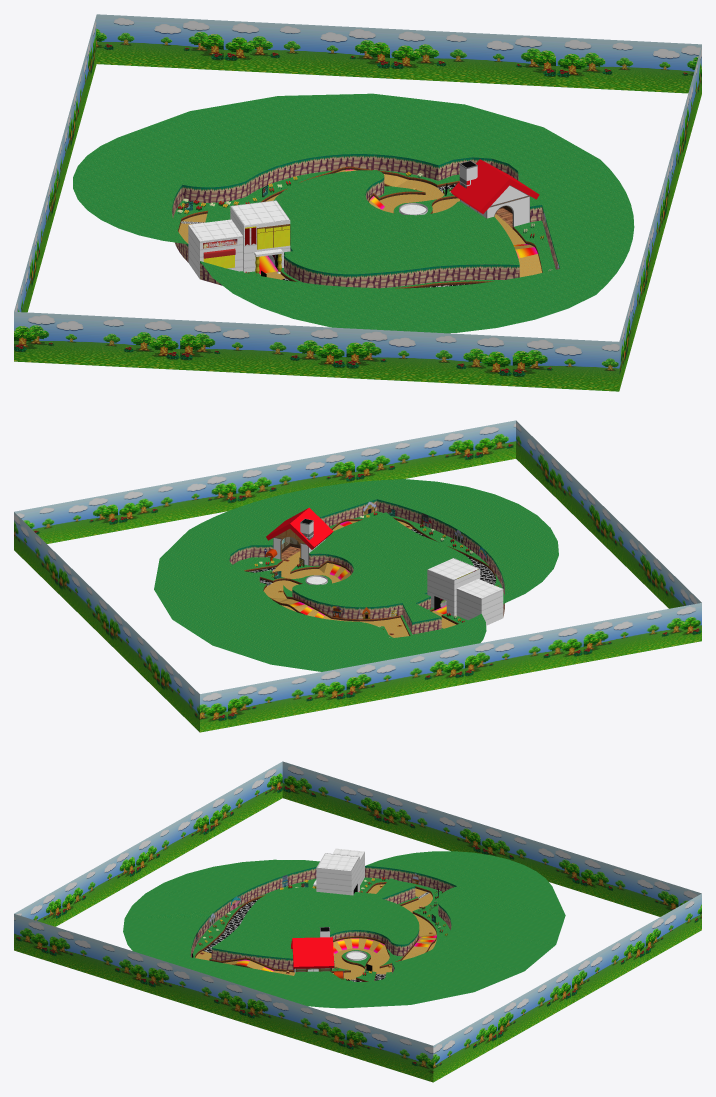
3 renders of one model, top to bottom at view 1: azimuth 30°, elevation 25°; view 2: azimuth 150°, elevation 25°; view 3: azimuth 270°, elevation 25°, orthographic. The views are drawn at different scales.
Parts seen in each view (by area): view 1: Carefree_Crossing-SKP--grass, Carefree_Crossing-SKP--background, Carefree_Crossing-SKP--cliff, Carefree_Crossing-SKP--dirt_path, Carefree_Crossing-SKP--nookington_wall4, Carefree_Crossing-SKP--house_redroof, Carefree_Crossing-SKP--nookington_roof, Carefree_Crossing-SKP--fence, Carefree_Crossing-SKP--house_wall, Carefree_Crossing-SKP--nookington_wall3, Carefree_Crossing-SKP--nookington_marble; view 2: Carefree_Crossing-SKP--background, Carefree_Crossing-SKP--grass, Carefree_Crossing-SKP--cliff, Carefree_Crossing-SKP--nookington_wall4, Carefree_Crossing-SKP--dirt_path, Carefree_Crossing-SKP--fence, Carefree_Crossing-SKP--house_redroof, Carefree_Crossing-SKP--nookington_roof, Carefree_Crossing-SKP--house_wall; view 3: Carefree_Crossing-SKP--background, Carefree_Crossing-SKP--grass, Carefree_Crossing-SKP--cliff, Carefree_Crossing-SKP--dirt_path, Carefree_Crossing-SKP--nookington_wall4, Carefree_Crossing-SKP--house_redroof, Carefree_Crossing-SKP--fence, Carefree_Crossing-SKP--nookington_roof, Carefree_Crossing-SKP--water, Carefree_Crossing-SKP--panel.
Boxes of the visible parts, x1,y1,x2,y2 form: Carefree_Crossing-SKP--grass: (73,93,634,333); Carefree_Crossing-SKP--background: (14,14,701,391); Carefree_Crossing-SKP--cliff: (172,154,557,288); Carefree_Crossing-SKP--dirt_path: (178,169,541,279); Carefree_Crossing-SKP--nookington_wall4: (188,200,290,278); Carefree_Crossing-SKP--house_redroof: (450,159,539,213); Carefree_Crossing-SKP--nookington_roof: (190,201,288,240); Carefree_Crossing-SKP--fence: (178,166,542,288); Carefree_Crossing-SKP--house_wall: (459,165,529,226); Carefree_Crossing-SKP--nookington_wall3: (203,226,289,268); Carefree_Crossing-SKP--nookington_marble: (188,203,427,273); Carefree_Crossing-SKP--background: (14,420,701,732); Carefree_Crossing-SKP--grass: (154,479,558,671); Carefree_Crossing-SKP--cliff: (229,499,504,634); Carefree_Crossing-SKP--nookington_wall4: (427,558,503,625); Carefree_Crossing-SKP--dirt_path: (264,520,456,637); Carefree_Crossing-SKP--fence: (244,517,496,635); Carefree_Crossing-SKP--house_redroof: (266,507,333,549); Carefree_Crossing-SKP--nookington_roof: (429,558,501,597); Carefree_Crossing-SKP--house_wall: (264,522,325,565); Carefree_Crossing-SKP--background: (14,761,701,1082); Carefree_Crossing-SKP--grass: (123,851,565,1008); Carefree_Crossing-SKP--cliff: (190,866,456,973); Carefree_Crossing-SKP--dirt_path: (195,884,436,979); Carefree_Crossing-SKP--nookington_wall4: (316,852,364,895); Carefree_Crossing-SKP--house_redroof: (291,937,334,968); Carefree_Crossing-SKP--fence: (195,882,436,981); Carefree_Crossing-SKP--nookington_roof: (317,849,363,870); Carefree_Crossing-SKP--water: (203,899,385,981); Carefree_Crossing-SKP--panel: (236,935,436,971).
Bounding box in the file's own units: 246717 × 20643 × 252201.
Materials: 49 (49 with a texture image).
